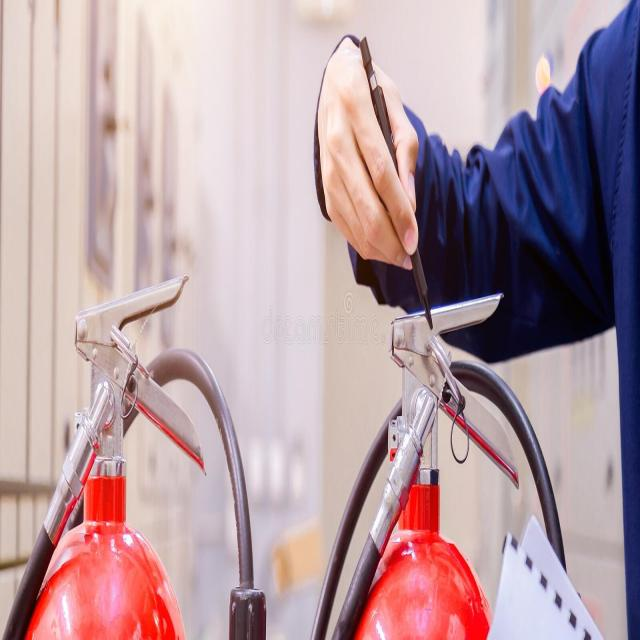fire_extinguisher: (0, 262, 271, 639), (306, 281, 584, 639)
